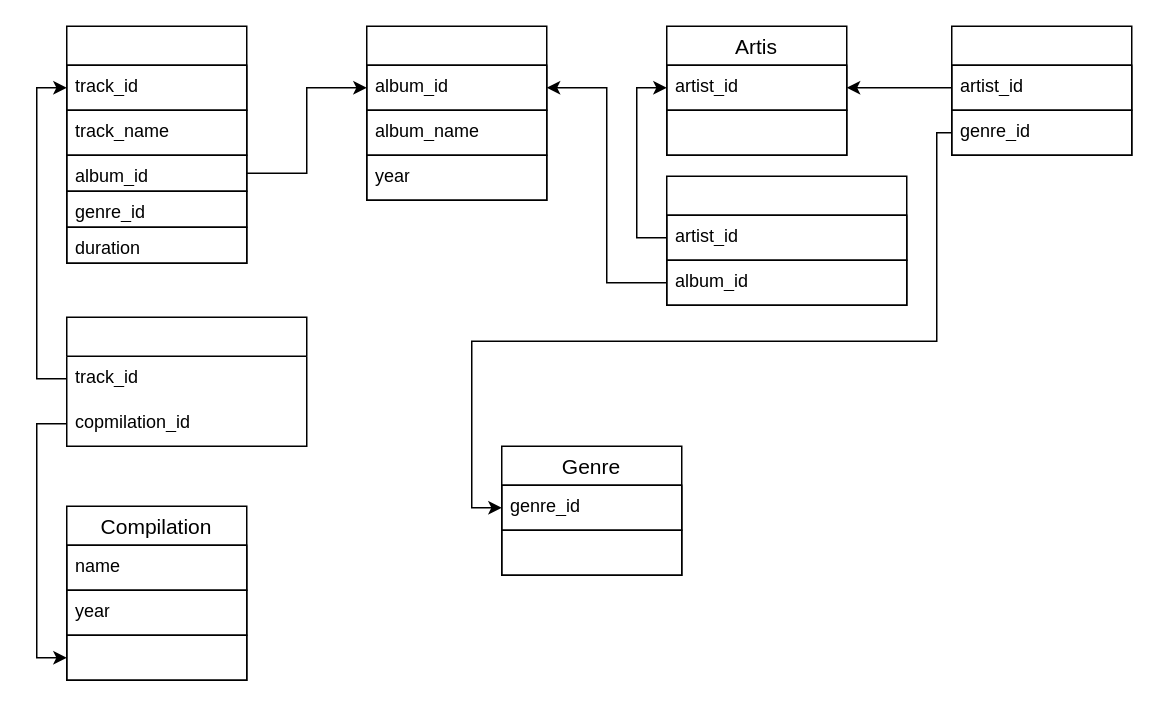
Some shapes in this 1158 by 711 pixel diagram are drawn without their labels. Here are the shapes that lost their labels. From the top down, the box of each, then its label:
(950, 25, 1132, 155): Artist_genre
(365, 25, 547, 200): Albums
(665, 109, 847, 155): artist_name
(65, 25, 247, 263): Tracks
(665, 175, 907, 305): Album_artist
(65, 316, 307, 446): Track_compilation
(500, 529, 682, 575): genre_name
(65, 634, 247, 680): compilation_id
